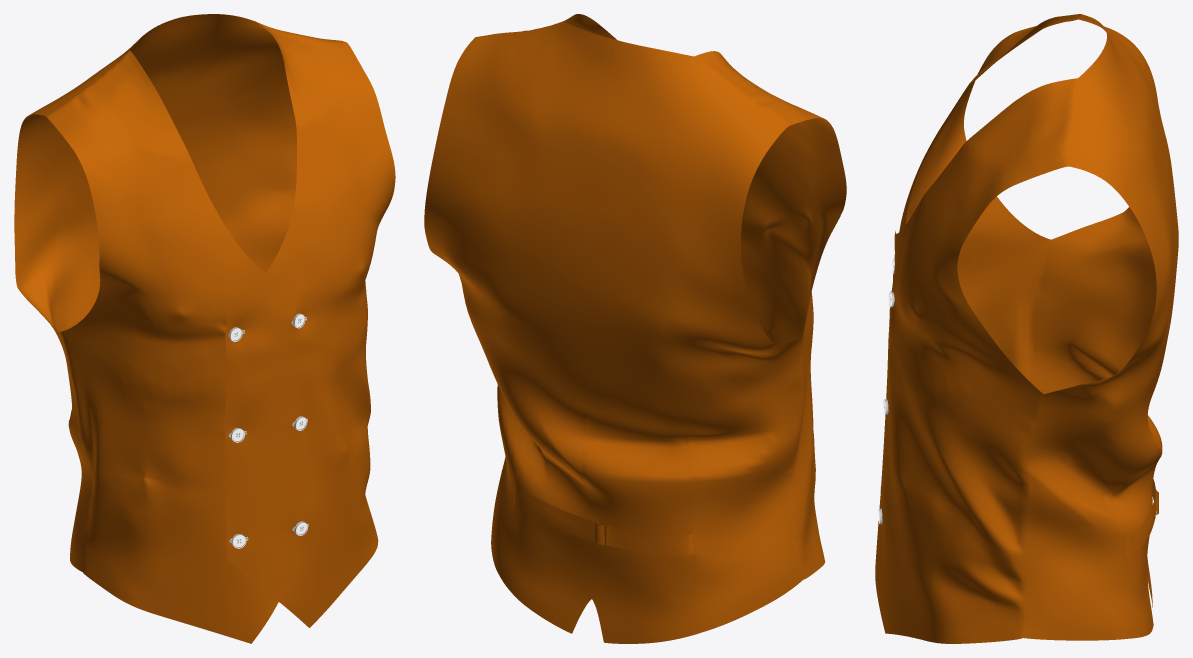
The model's file is waistcoat_mao.fbx.
The picture shows the model from 3 angles, left to right: view 1: azimuth 30°, elevation 25°; view 2: azimuth 150°, elevation 25°; view 3: azimuth 270°, elevation 25°; orthographic projection. The views are drawn at different scales.
Parts seen in each view (by area): view 1: waistcoat_mao; view 2: waistcoat_mao; view 3: waistcoat_mao.
Part boxes in pixels (x1=…): waistcoat_mao: x1=14, y1=14, x2=395, y2=643; waistcoat_mao: x1=424, y1=14, x2=846, y2=643; waistcoat_mao: x1=875, y1=14, x2=1178, y2=643.
Bounding box in the file's own units: 376 × 611 × 289.
